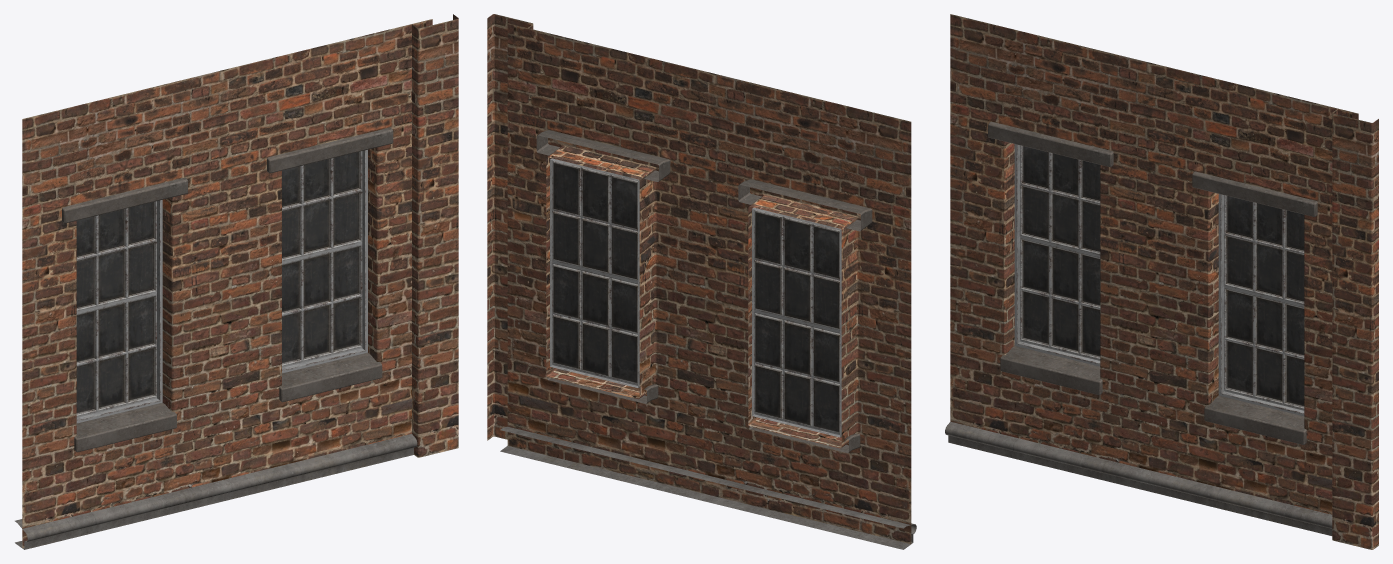
3 views of the same model, side by side, from view 1: azimuth 30°, elevation 25°; view 2: azimuth 150°, elevation 25°; view 3: azimuth 330°, elevation 25° (orthographic).
Visible parts, largest first — view 1: wall_window_centered_double_01, window_centered_double_01, wall_pier_standard_01, cornice01_standard_standard_01; view 2: wall_window_centered_double_01, window_centered_double_01, wall_pier_standard_01, cornice01_standard_standard_01; view 3: wall_window_centered_double_01, window_centered_double_01, wall_pier_standard_01, cornice01_standard_standard_01.
Boxes of the visible parts, box(x1,y1,x2,y2) form: wall_window_centered_double_01: box(22, 19, 432, 548); window_centered_double_01: box(62, 127, 393, 452); wall_pier_standard_01: box(412, 14, 458, 457); cornice01_standard_standard_01: box(15, 434, 417, 549); wall_window_centered_double_01: box(507, 23, 911, 543); window_centered_double_01: box(536, 130, 872, 452); wall_pier_standard_01: box(487, 14, 533, 440); cornice01_standard_standard_01: box(500, 426, 916, 549); wall_window_centered_double_01: box(950, 14, 1358, 514); window_centered_double_01: box(988, 121, 1317, 444); wall_pier_standard_01: box(1332, 109, 1378, 549); cornice01_standard_standard_01: box(945, 421, 1332, 535).
Size of the model in its own units: 3.15 by 3 by 0.28.
Materials: 4 (4 with a texture image).
